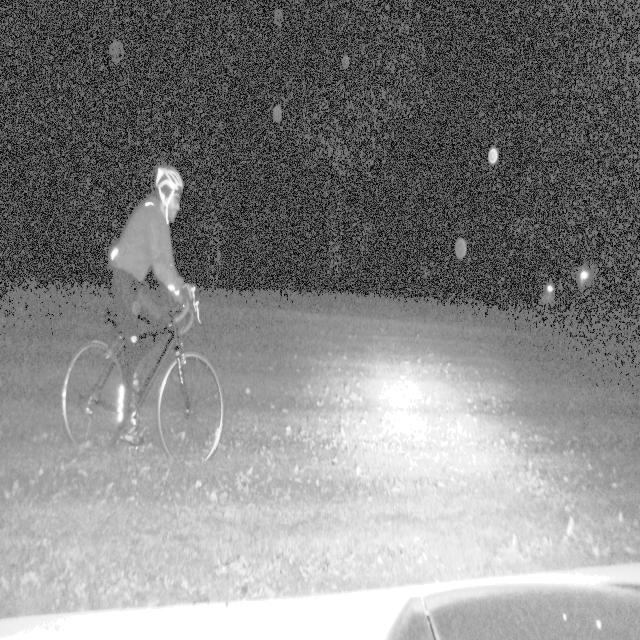Bicycle: (69, 326, 257, 494)
Person: (100, 126, 175, 444)
